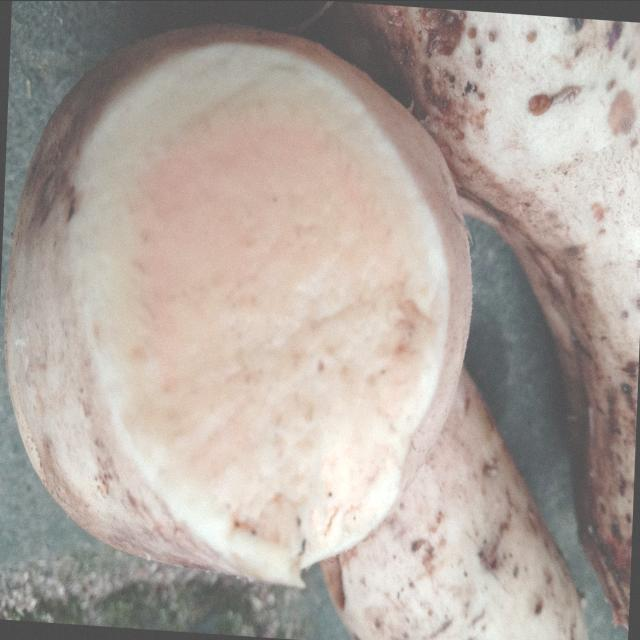Healthy Sweet Potato: (70, 43, 448, 585)
